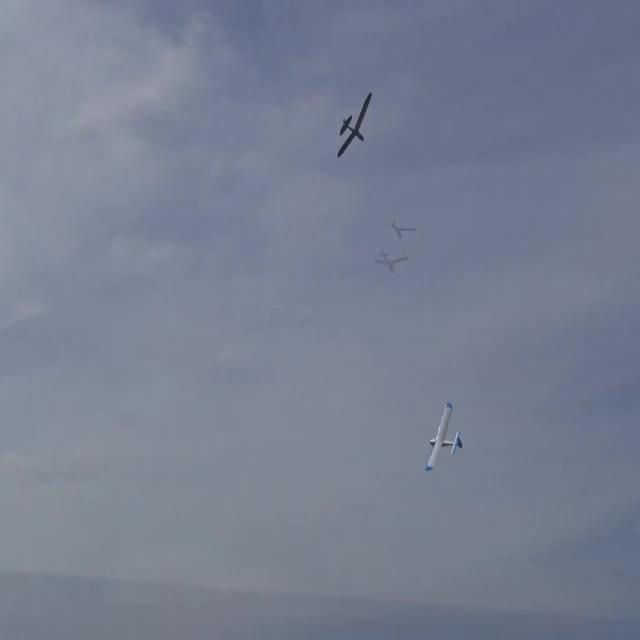iha: (367, 248, 403, 273), (388, 218, 417, 240), (337, 58, 372, 63), (423, 435, 464, 438)
